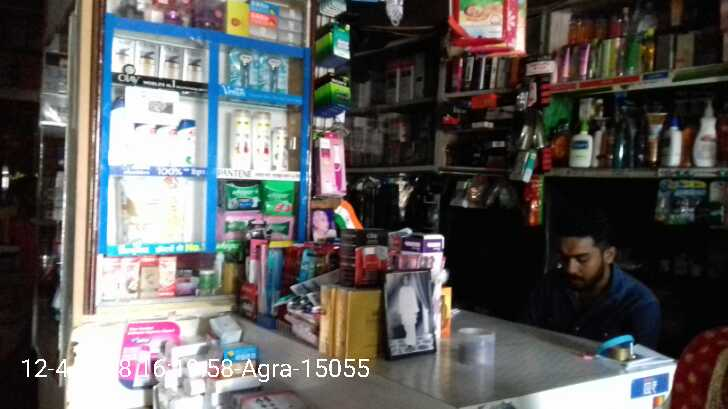venus: (229, 46, 257, 91), (259, 53, 288, 95)
